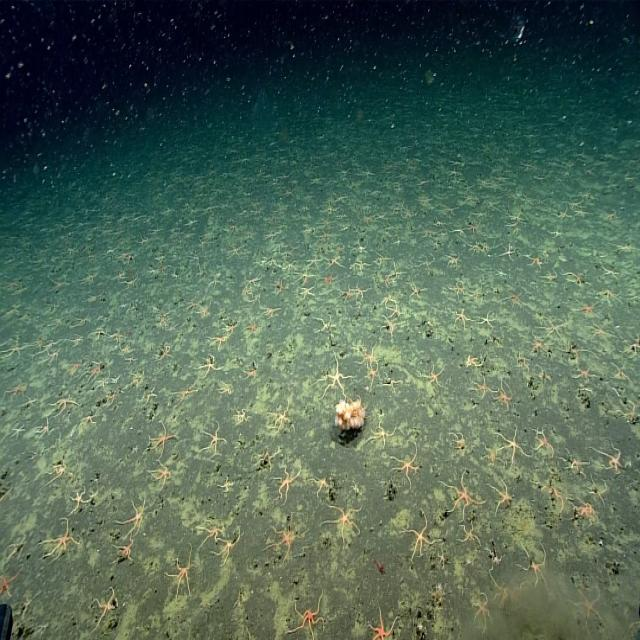brittle-stars: (569, 578, 603, 624), (290, 593, 324, 638), (444, 473, 478, 517), (517, 543, 548, 591), (44, 519, 81, 559), (268, 517, 300, 559), (326, 504, 362, 539), (168, 550, 195, 596), (321, 356, 349, 397), (406, 515, 433, 556), (274, 464, 302, 500), (394, 444, 421, 481), (498, 428, 526, 462), (150, 422, 177, 455), (95, 588, 119, 625), (123, 498, 149, 532), (212, 532, 240, 563), (489, 478, 515, 510), (202, 424, 226, 458), (490, 577, 514, 611), (370, 610, 397, 640), (596, 444, 623, 473), (562, 451, 587, 482), (0, 565, 21, 601), (473, 593, 493, 629), (199, 517, 224, 544), (68, 485, 92, 513), (152, 458, 174, 488), (542, 482, 564, 512), (172, 380, 198, 404), (271, 405, 293, 433), (573, 498, 595, 526), (115, 536, 137, 564), (540, 317, 566, 340), (617, 400, 640, 426), (372, 419, 394, 446), (1, 339, 28, 361), (4, 535, 26, 562), (586, 478, 607, 506), (53, 391, 79, 413), (494, 382, 514, 410), (257, 446, 280, 469), (21, 591, 40, 618), (198, 355, 222, 376), (573, 299, 597, 320), (536, 429, 554, 457), (564, 269, 588, 290), (5, 379, 28, 400), (424, 364, 444, 388), (51, 458, 71, 482), (36, 338, 61, 357), (528, 334, 548, 357), (559, 342, 584, 360), (459, 524, 479, 546), (588, 324, 608, 346), (381, 316, 402, 336), (312, 475, 332, 496), (473, 378, 492, 400), (36, 416, 53, 440), (504, 288, 524, 308), (574, 362, 594, 382), (478, 310, 497, 331), (360, 345, 378, 367), (623, 337, 640, 360), (464, 351, 484, 370), (600, 286, 620, 305), (382, 373, 402, 392), (9, 421, 27, 442), (87, 360, 105, 381), (39, 347, 60, 365), (484, 445, 501, 467), (486, 550, 503, 572), (157, 343, 174, 364), (453, 308, 470, 329), (0, 482, 11, 514), (609, 368, 626, 388), (140, 388, 157, 408), (316, 315, 334, 333), (418, 256, 436, 274), (448, 431, 466, 449), (400, 203, 418, 221), (410, 280, 426, 300), (62, 364, 78, 384), (517, 353, 532, 374), (352, 259, 369, 277), (210, 334, 228, 351), (450, 278, 466, 297), (83, 411, 99, 430), (263, 304, 282, 320), (235, 407, 250, 427), (48, 276, 69, 290), (500, 242, 516, 260), (244, 318, 260, 336), (364, 364, 380, 382), (296, 284, 314, 300), (353, 283, 369, 301), (51, 312, 67, 330), (73, 313, 91, 329), (100, 375, 116, 393), (536, 368, 552, 386), (130, 368, 145, 387), (298, 270, 315, 286), (245, 272, 262, 288), (90, 327, 106, 344), (376, 249, 391, 267), (20, 395, 38, 410), (328, 254, 344, 270), (378, 292, 394, 308), (388, 304, 403, 321), (468, 284, 483, 301), (528, 252, 543, 269), (544, 270, 559, 287), (321, 272, 336, 288), (225, 319, 240, 335), (217, 382, 233, 397), (122, 273, 137, 289), (228, 241, 242, 258), (390, 265, 404, 282), (67, 336, 84, 350), (564, 196, 582, 209), (242, 366, 257, 381), (198, 304, 212, 320), (308, 253, 322, 269), (274, 279, 288, 295), (447, 252, 461, 268), (283, 259, 297, 275), (324, 204, 340, 218), (342, 285, 355, 302), (438, 548, 449, 568), (442, 203, 457, 217), (219, 480, 234, 494), (466, 243, 483, 255), (468, 220, 482, 234), (322, 227, 335, 242), (110, 328, 123, 343), (158, 314, 170, 330), (78, 274, 95, 285), (495, 267, 508, 281), (185, 300, 198, 314), (336, 190, 349, 204), (557, 207, 570, 221), (355, 240, 368, 254), (120, 342, 132, 357), (263, 229, 278, 241), (450, 224, 463, 237), (473, 209, 486, 222), (126, 352, 138, 366), (420, 195, 432, 209), (104, 393, 116, 407), (572, 208, 588, 218), (510, 213, 524, 222), (243, 625, 251, 640), (244, 287, 254, 298), (197, 266, 206, 278), (210, 280, 220, 288)
